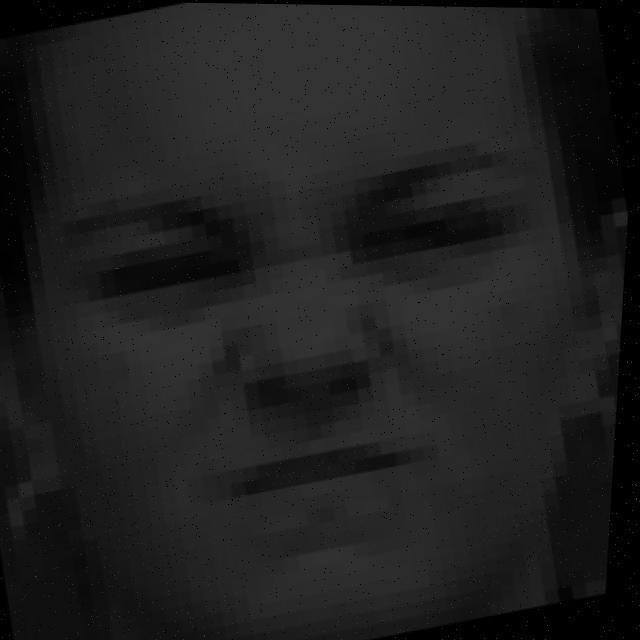Disgust: (66, 86, 576, 566)
